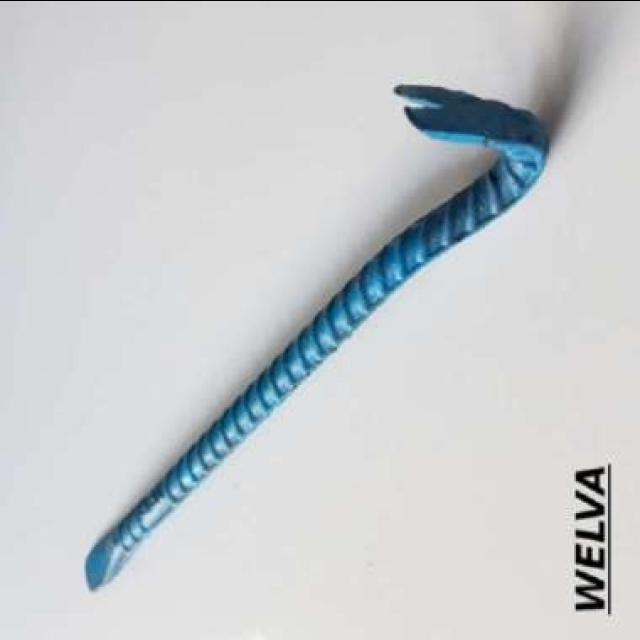Linggis: (84, 82, 550, 592)
